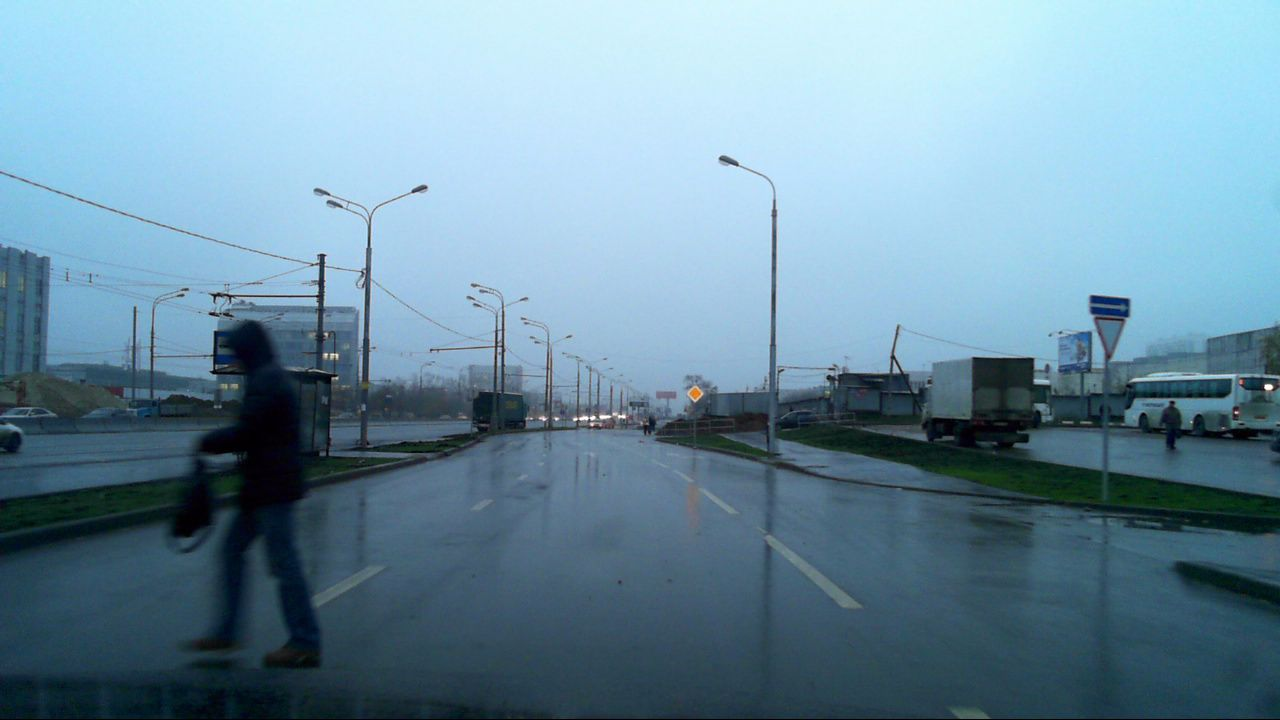One-Way Traffic: (1090, 296, 1129, 317)
